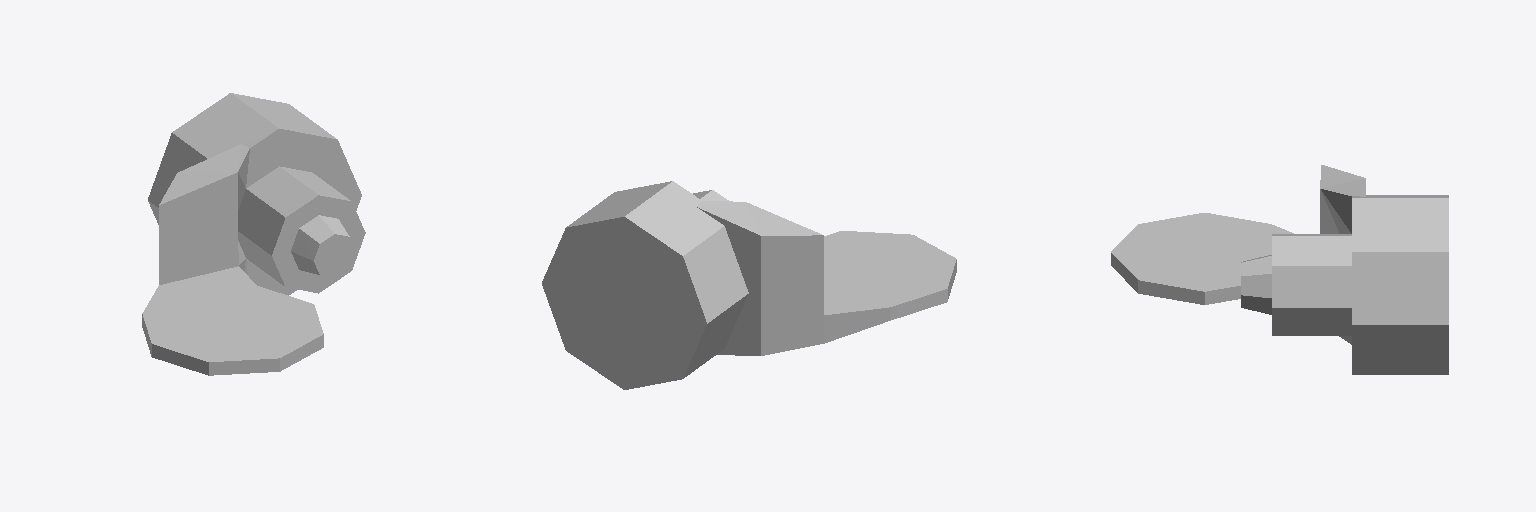
Rendered from neckj2.obj.
The picture shows the model from 3 angles: view 1: azimuth 30°, elevation 25°; view 2: azimuth 150°, elevation 25°; view 3: azimuth 270°, elevation 25°; orthographic projection.
Parts seen in each view (by area): view 1: Cylinder; view 2: Cylinder; view 3: Cylinder.
Part boxes in pixels (left/top/right/bottom): Cylinder: left=142, top=93, right=365, bottom=375; Cylinder: left=542, top=181, right=956, bottom=389; Cylinder: left=1111, top=165, right=1448, bottom=374.
Size of the model in its own units: 0.1438 by 0.0841 by 0.1484.